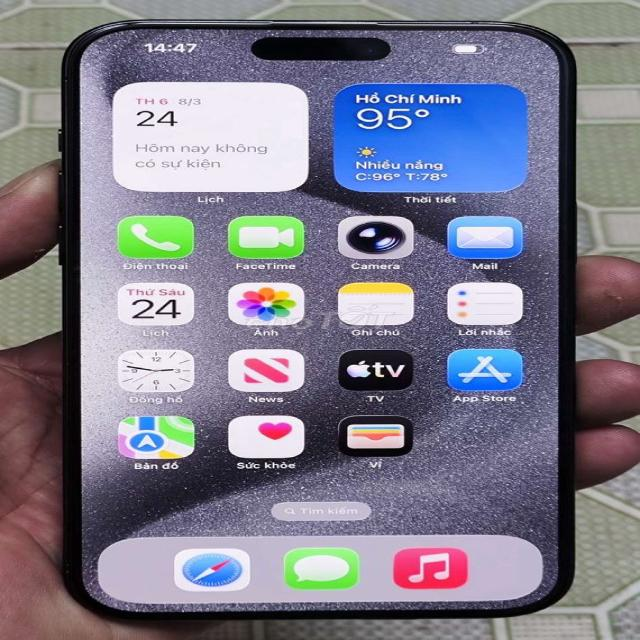gen_15: (38, 11, 585, 631)
